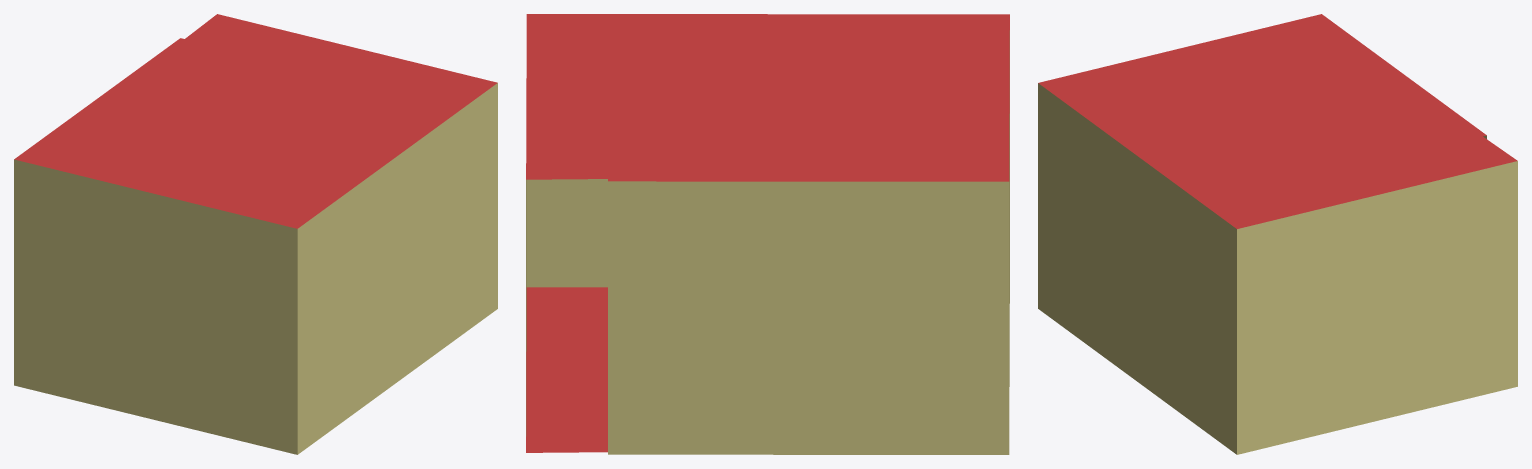
3 views of the same model, side by side, from view 1: azimuth 30°, elevation 25°; view 2: azimuth 150°, elevation 25°; view 3: azimuth 270°, elevation 25° (orthographic). The views are drawn at different scales.
Size of the model in its own units: 10.65 by 10.04 by 5.21.
